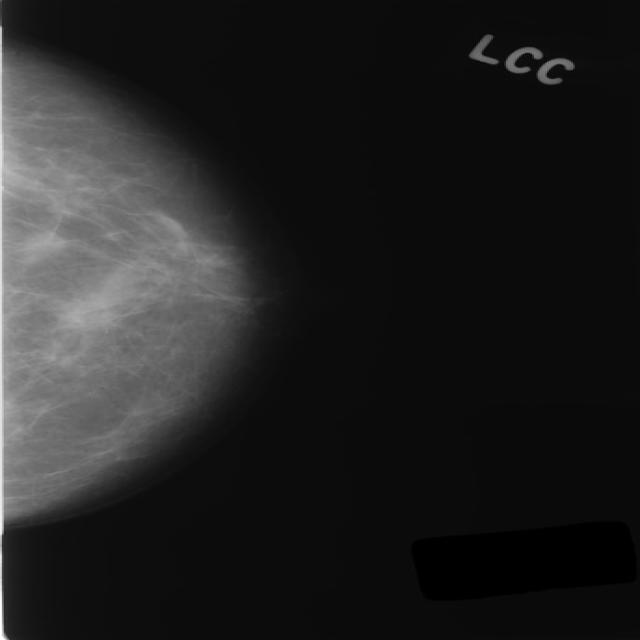tumour: (19, 230, 63, 260)
